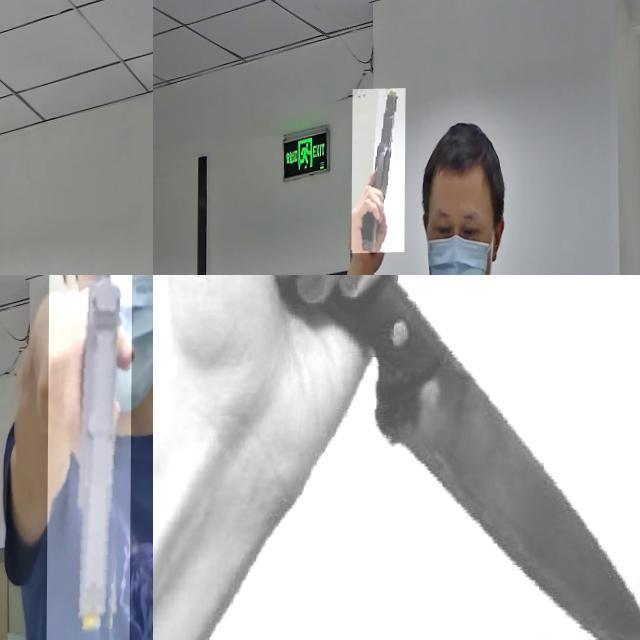-: (153, 275, 640, 640)
gun-knife-thesis - v11 Yolov5 augmented: (47, 275, 132, 640), (352, 90, 406, 254)
